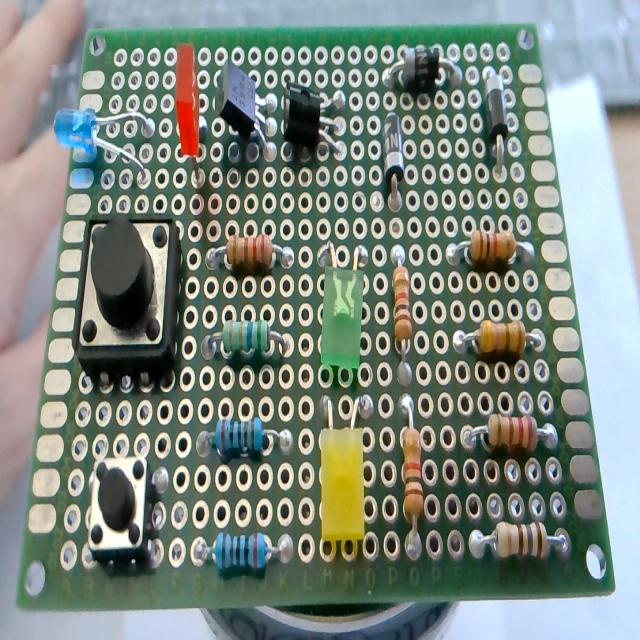diode: (479, 60, 514, 183), (380, 47, 466, 95), (379, 111, 407, 207)
led: (318, 392, 372, 552), (52, 104, 156, 181), (318, 237, 372, 375), (173, 41, 208, 188)
resistor: (466, 507, 572, 572), (190, 522, 297, 586), (398, 390, 432, 563), (196, 317, 294, 369), (460, 405, 564, 451), (386, 239, 419, 381), (197, 415, 290, 465), (199, 230, 287, 276), (445, 230, 536, 270), (453, 322, 553, 354)
switch: (78, 204, 184, 374), (85, 450, 156, 558)
transistor: (215, 53, 269, 162), (280, 68, 344, 158)
